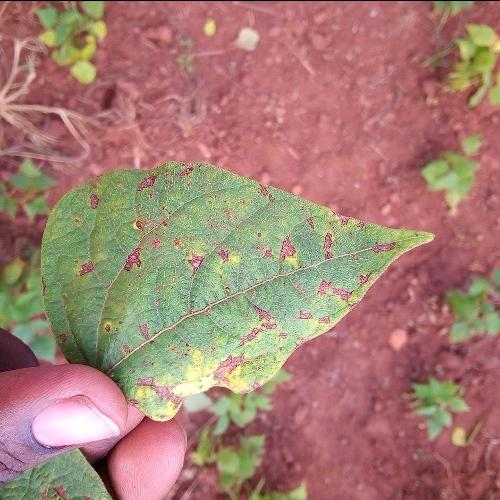hawar: (47, 152, 414, 436)
